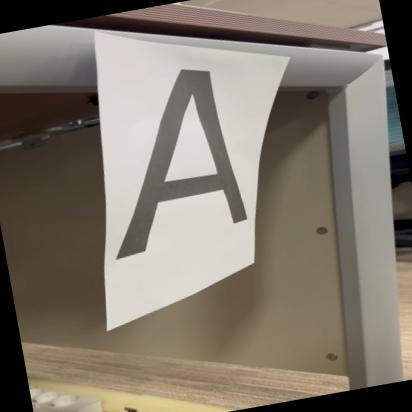seat: (69, 56, 276, 260)
